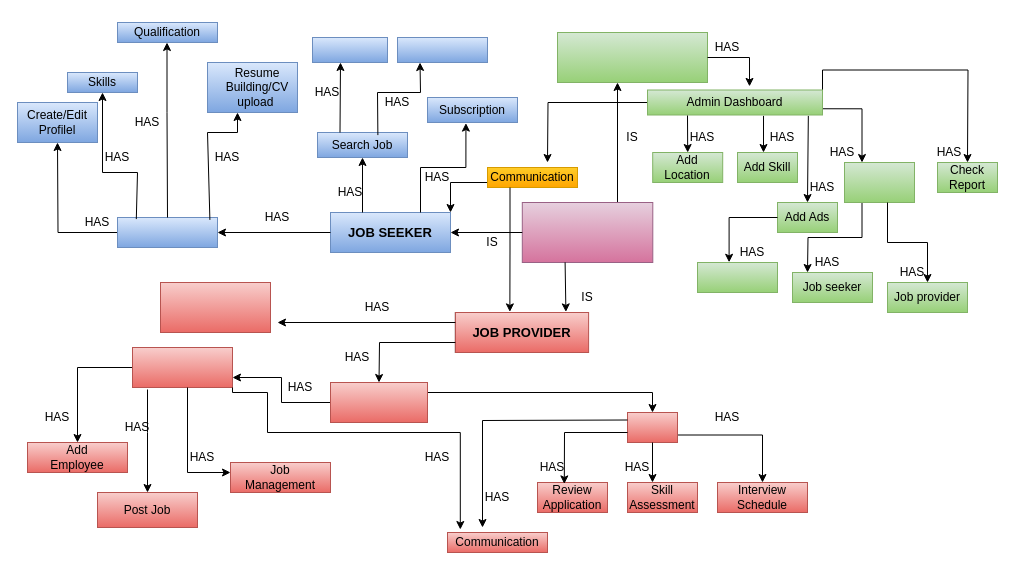
The diagram is 1015 pixels wide and 574 high, and some of its shapes have lost their labels. Each missing label, with the centre of its shape:
"Application status" goes at point 442,49.
"Apply Job" goes at point 350,49.
"Company Admin" goes at point 182,367.
"Company Profile" goes at point 215,307.
"Employee profile" goes at point 379,402.
"HR" goes at point 652,427.
"Manage ads" goes at point 737,277.
"PLATFORM ADMIN" goes at point 632,57.
"Profile Creation" goes at point 167,232.
"SYSTEM USER" goes at point 587,232.
"User Management" goes at point 879,182.
